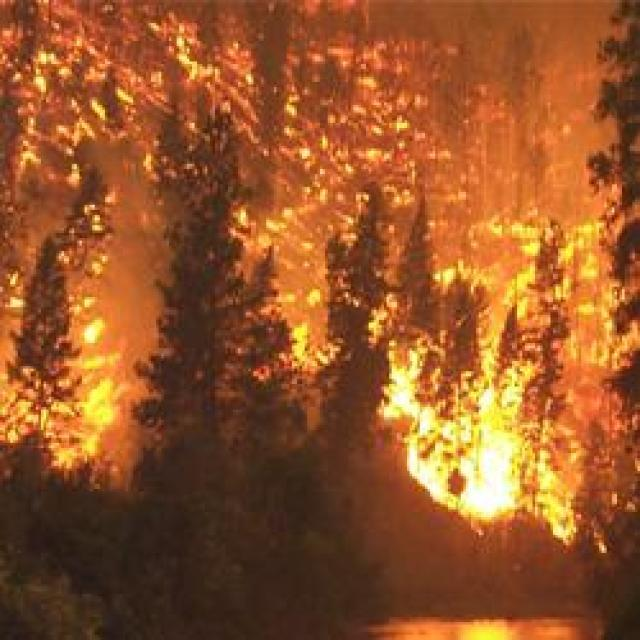Fire: (408, 416, 514, 506)
